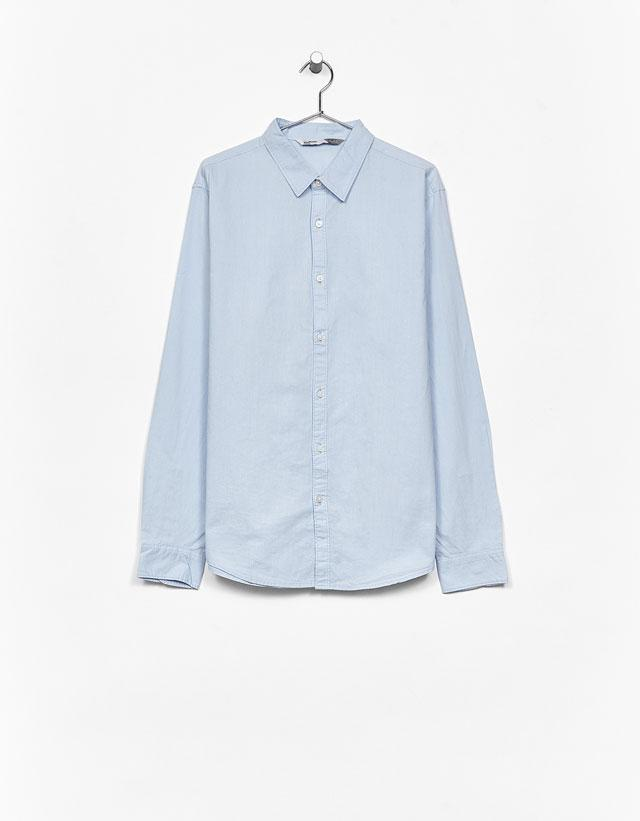teeshirt: (149, 111, 523, 635)
